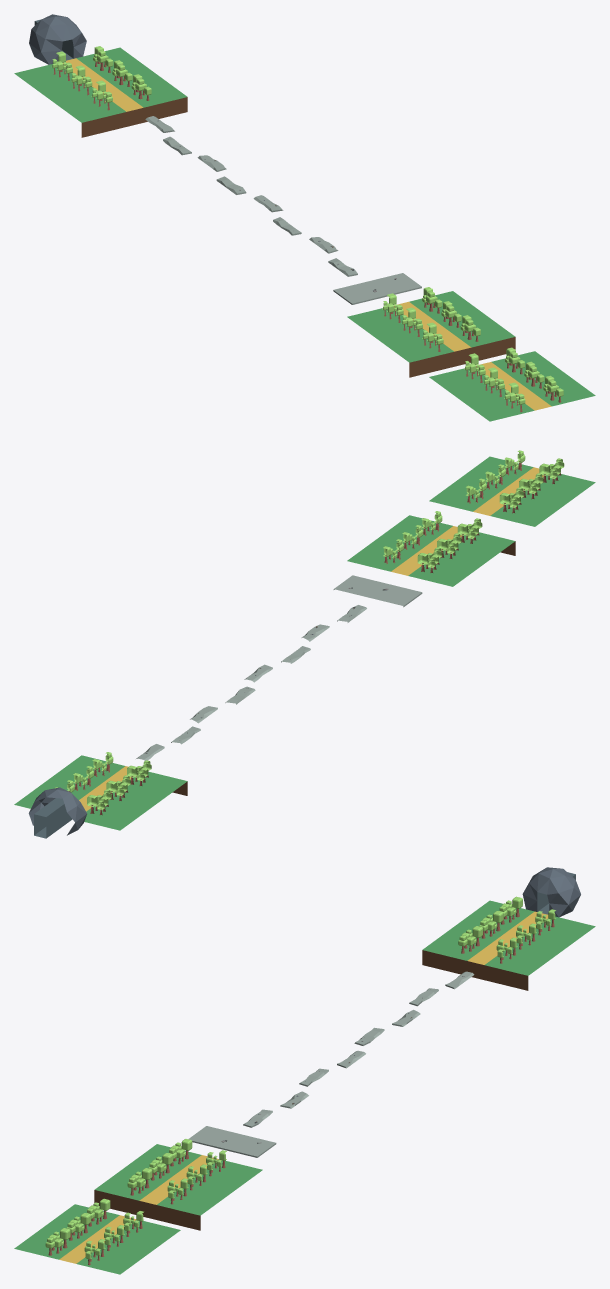
Rendered from road1.fbx.
3 renders of one model, top to bottom at view 1: azimuth 30°, elevation 25°; view 2: azimuth 150°, elevation 25°; view 3: azimuth 330°, elevation 25°, orthographic.
Visible parts, largest first — view 1: Plane.002, Plane.001, Plane, Пещера, Начало платформы, Деревья 1, Деревья 2.001, Деревья 2, Деревья3, Деревья2, Деревья1, Платформа 2 (+1 smaller); view 2: Plane.001, Plane, Plane.002, Начало платформы, Деревья 2, Деревья 1, Деревья 2.001, Пещера, Вход в пещеру, Платформа 2, Платформа 1, Деревья2 (+2 smaller); view 3: Plane.002, Plane.001, Plane, Пещера, Начало платформы, Деревья 2.001, Деревья 1, Деревья 2, Деревья2, Деревья1, Деревья3, Платформа 2 (+1 smaller).
Boxes of the visible parts, x1,y1,x2,y2 form: Plane.002: [14, 47, 187, 137]; Plane.001: [347, 291, 515, 377]; Plane: [429, 351, 595, 421]; Пещера: [29, 14, 86, 64]; Начало платформы: [333, 273, 421, 304]; Деревья 1: [464, 353, 525, 412]; Деревья 2.001: [52, 51, 112, 110]; Деревья 2: [382, 293, 443, 351]; Деревья3: [93, 46, 151, 100]; Деревья2: [505, 347, 563, 402]; Деревья1: [422, 287, 480, 341]; Платформа 2: [145, 116, 246, 194]; Plane.001: [347, 515, 515, 586]; Plane: [429, 456, 595, 526]; Plane.002: [14, 755, 187, 830]; Начало платформы: [333, 575, 422, 607]; Деревья 2: [417, 518, 482, 572]; Деревья 1: [499, 458, 564, 513]; Деревья 2.001: [87, 760, 151, 815]; Пещера: [28, 787, 87, 835]; Вход в пещеру: [34, 798, 72, 838]; Платформа 2: [136, 686, 255, 760]; Платформа 1: [244, 605, 366, 682]; Деревья2: [466, 450, 525, 503]; Plane.002: [422, 900, 595, 990]; Plane.001: [94, 1144, 262, 1230]; Plane: [14, 1204, 180, 1274]; Пещера: [522, 867, 580, 917]; Начало платформы: [188, 1126, 276, 1157]; Деревья 2.001: [458, 896, 522, 953]; Деревья 1: [45, 1198, 110, 1255]; Деревья 2: [127, 1139, 192, 1195]; Деревья2: [84, 1211, 143, 1265]; Деревья1: [167, 1150, 226, 1204]; Деревья3: [496, 909, 555, 963]; Платформа 2: [354, 971, 474, 1045].
Bounding box in the file's own units: 34218 × 15789 × 280440.
